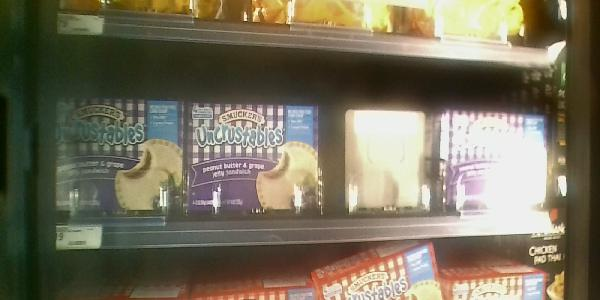icecream: (185, 94, 324, 221), (54, 93, 185, 223), (437, 106, 547, 215)
